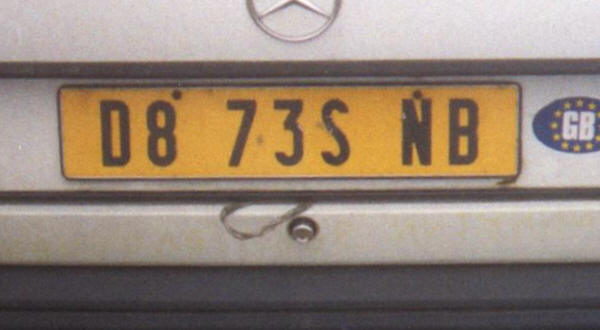license_plate: (57, 83, 523, 180)
